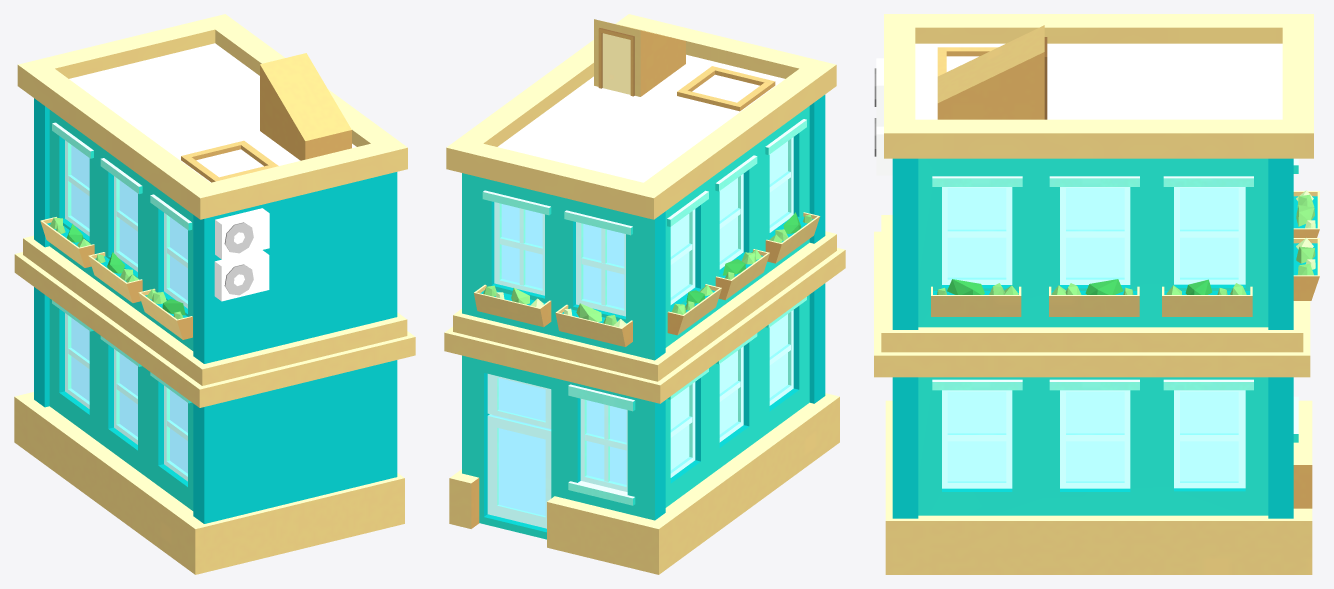
File: dwelling.004.glb
3 views of the same model, side by side, from view 1: azimuth 30°, elevation 25°; view 2: azimuth 150°, elevation 25°; view 3: azimuth 270°, elevation 25° (orthographic). The views are drawn at different scales.
Parts seen in each view (by area): view 1: dwelling.004(Clone); view 2: dwelling.004(Clone); view 3: dwelling.004(Clone).
Boxes of the visible parts, x1=… form: dwelling.004(Clone): x1=14, y1=14, x2=415, y2=574; dwelling.004(Clone): x1=444, y1=14, x2=845, y2=574; dwelling.004(Clone): x1=874, y1=14, x2=1319, y2=574.
Size of the model in its own units: 3.69 by 6.98 by 5.58.
Materials: 1 (1 with a texture image).
